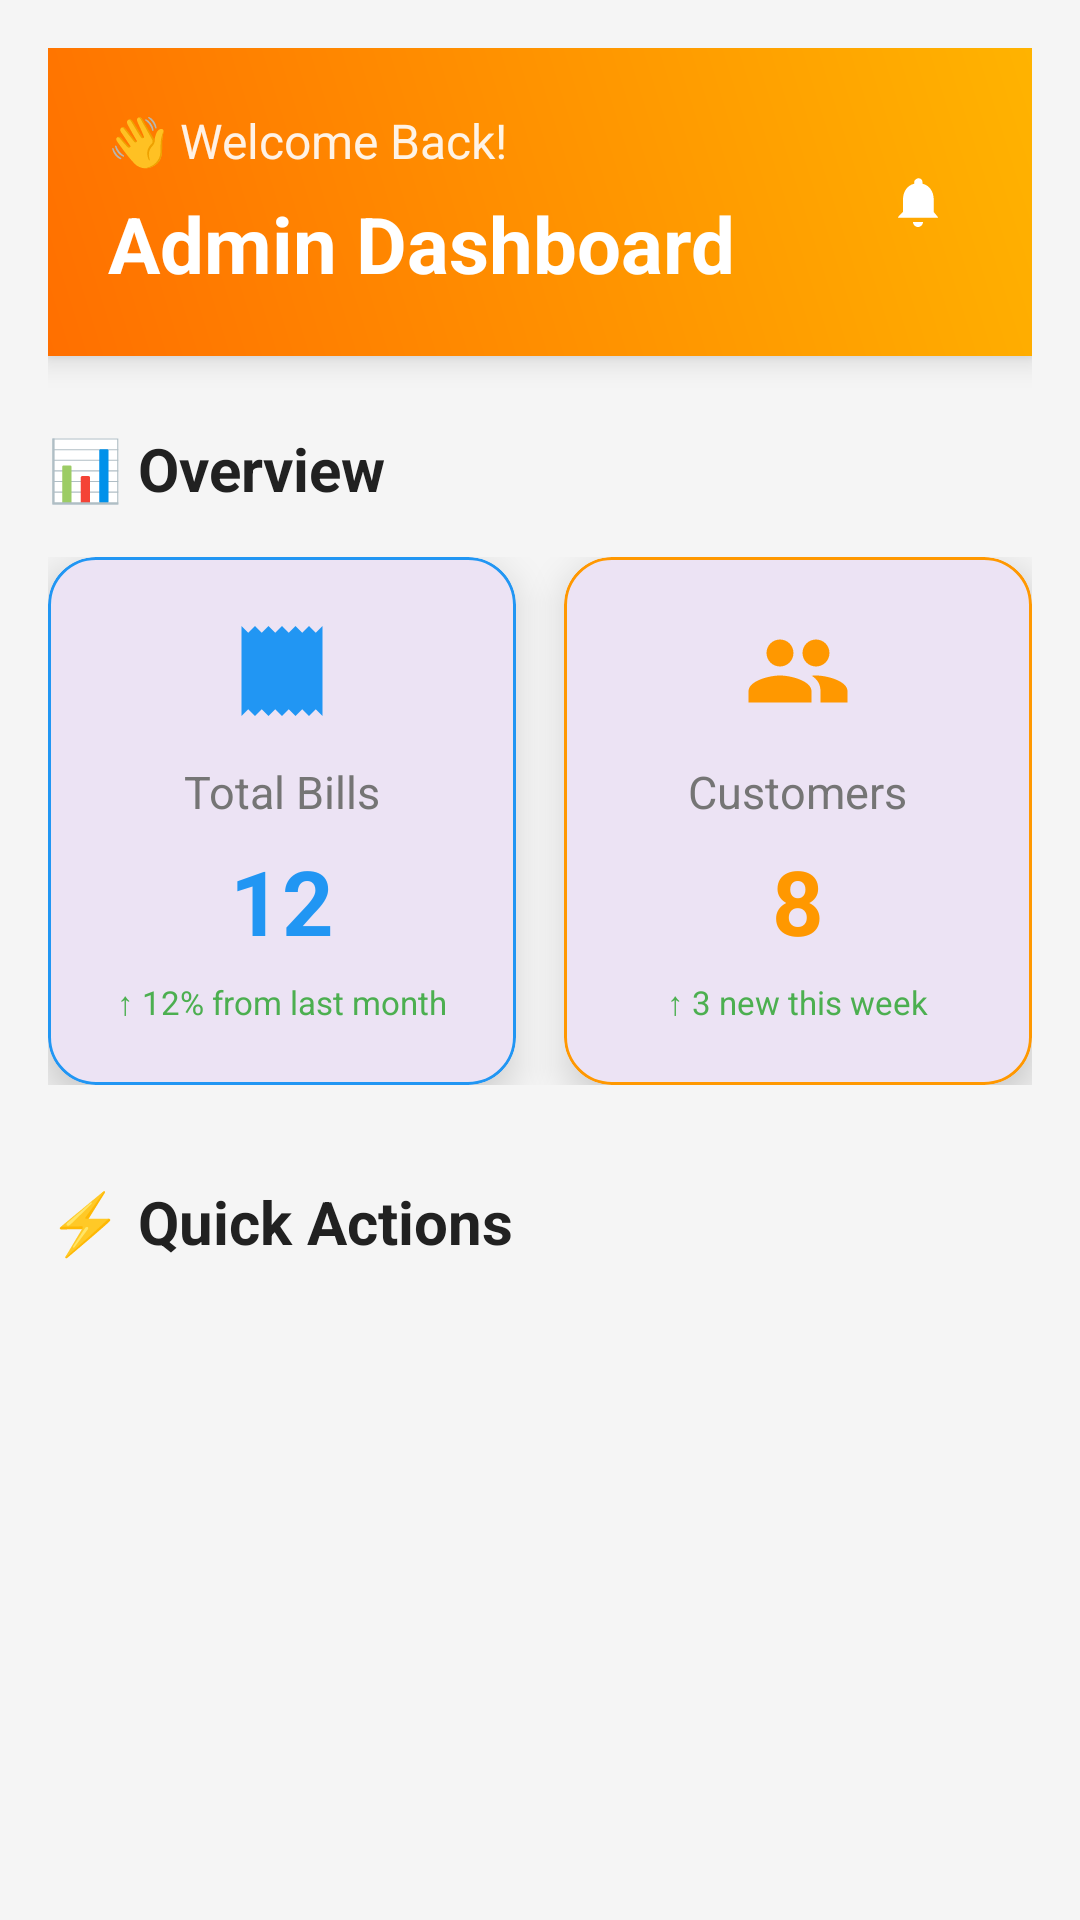

Where icons sit on this 1080×1920 app screen, as detection(x1, y1, x2, y2):
Notifications: detection(898, 178, 938, 227)
people: detection(748, 639, 848, 703)
receipt: detection(241, 626, 323, 716)
